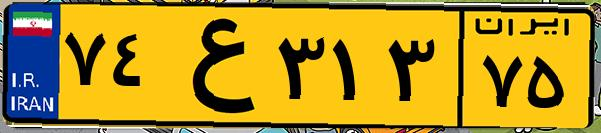1: (330, 28, 385, 110)
3: (270, 28, 330, 110), (385, 28, 445, 110)
4: (110, 28, 158, 98)
5: (525, 38, 570, 115)
7: (57, 26, 110, 100), (475, 38, 525, 113)
ع: (158, 12, 270, 120)
